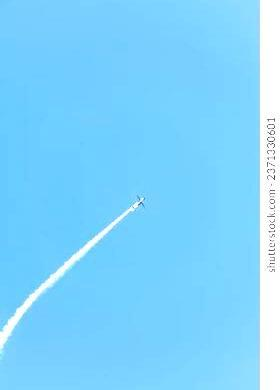Plane: (22, 182, 160, 286)
